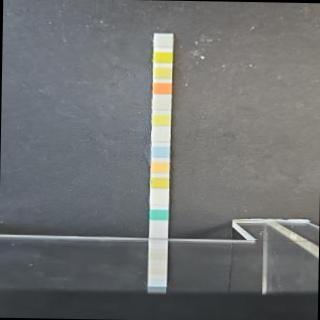mark: (150, 208, 168, 221), (150, 190, 168, 203), (150, 175, 168, 188), (154, 81, 172, 94), (153, 66, 171, 78), (152, 129, 169, 141), (153, 97, 170, 109), (152, 160, 168, 172), (152, 144, 168, 156), (153, 52, 172, 62), (152, 114, 169, 125), (154, 36, 172, 46)
